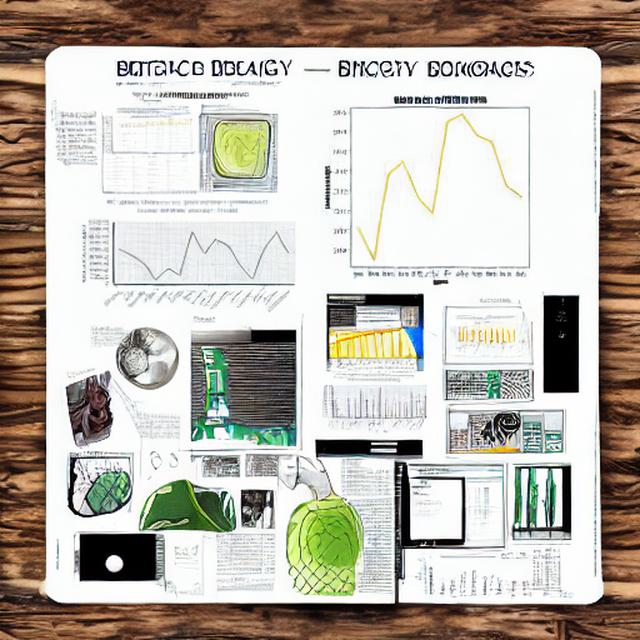Graph: (298, 82, 575, 290), (75, 194, 298, 323), (319, 372, 430, 437), (102, 106, 197, 162), (412, 554, 492, 601), (451, 318, 519, 357)
